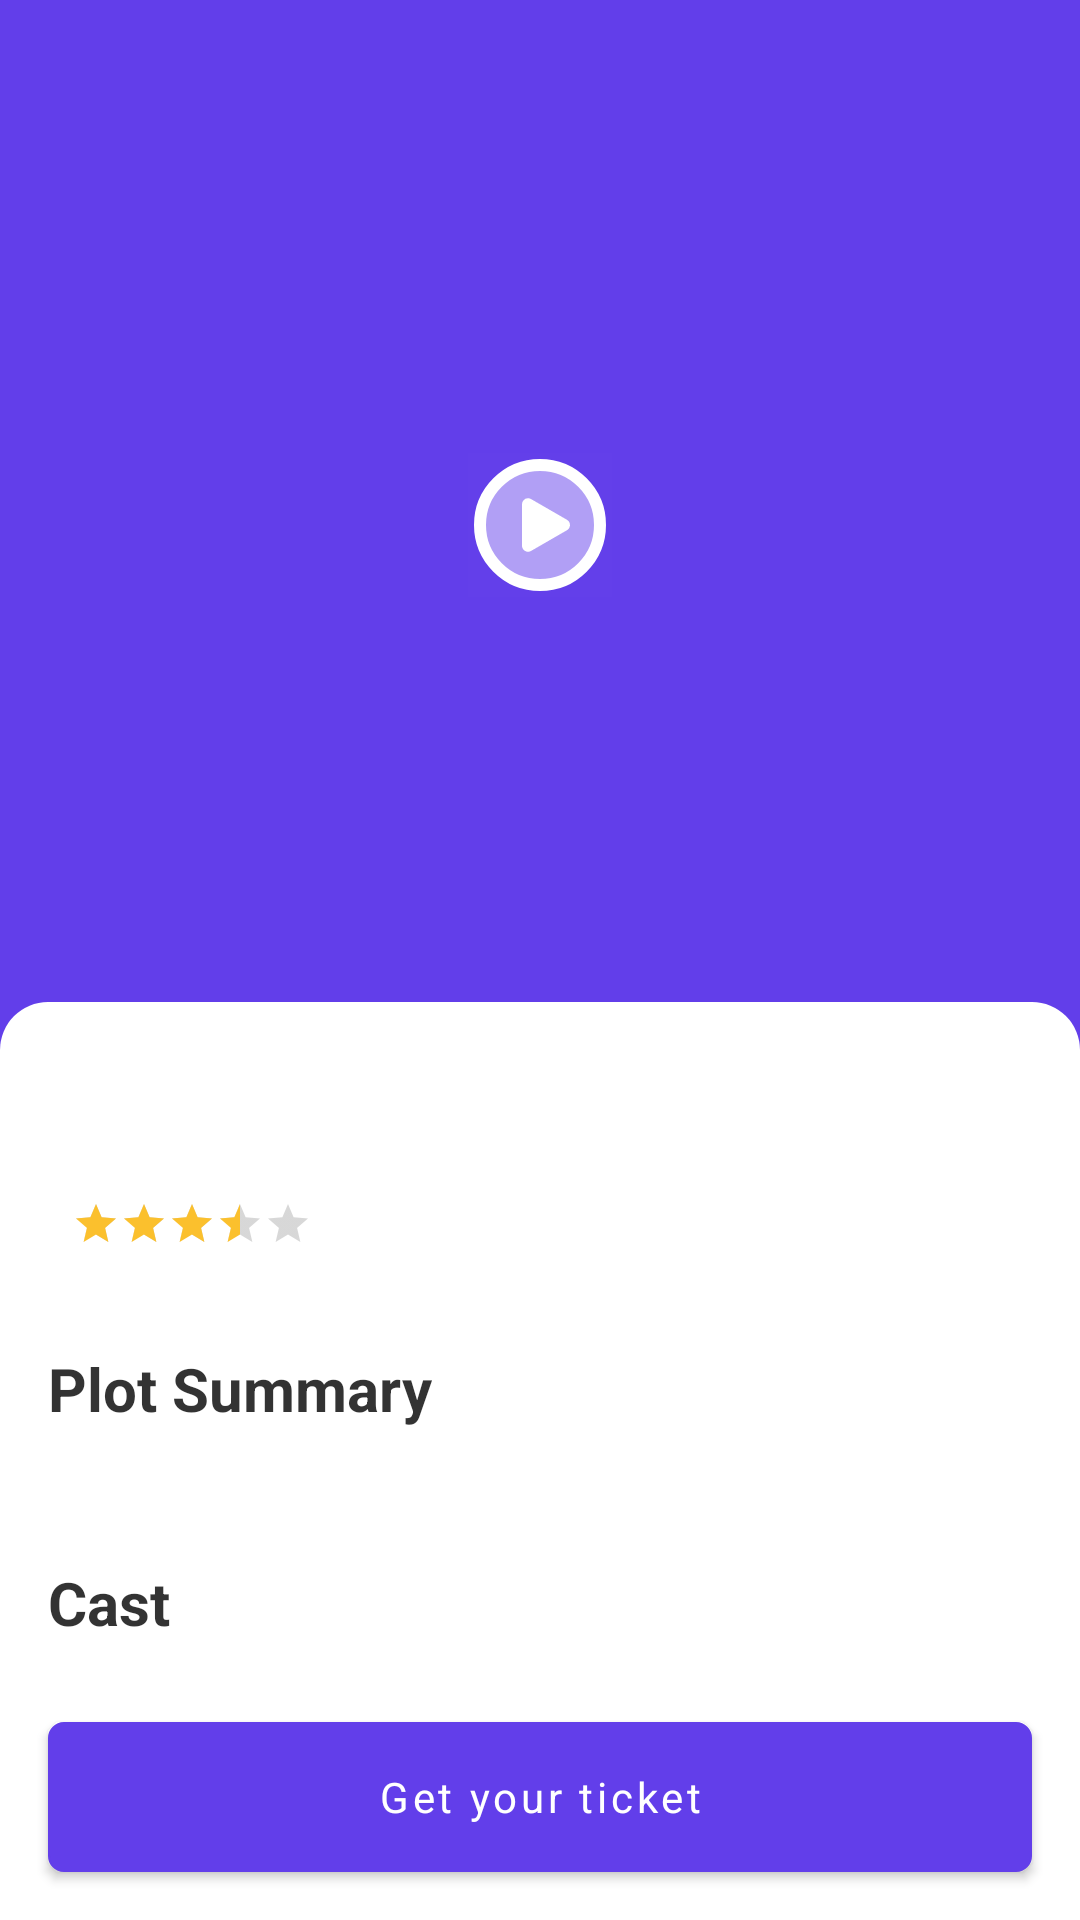

Screen size 1080*1920. Icon name, then its box in pixels as rect(x1, y1, x2, y2):
play: rect(474, 459, 606, 591)
